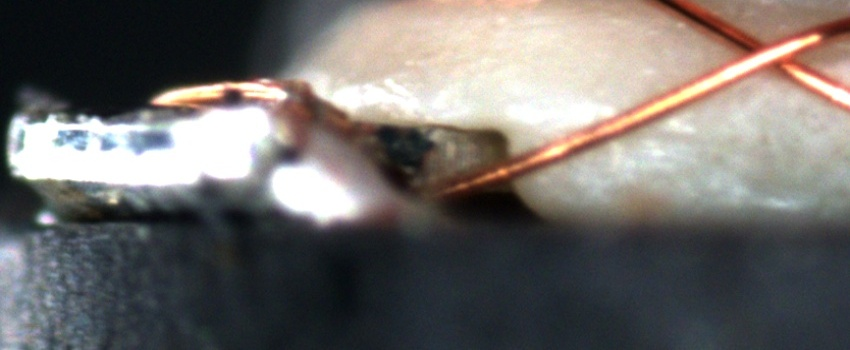CL: (717, 24, 822, 85)
TE: (141, 73, 338, 117)
